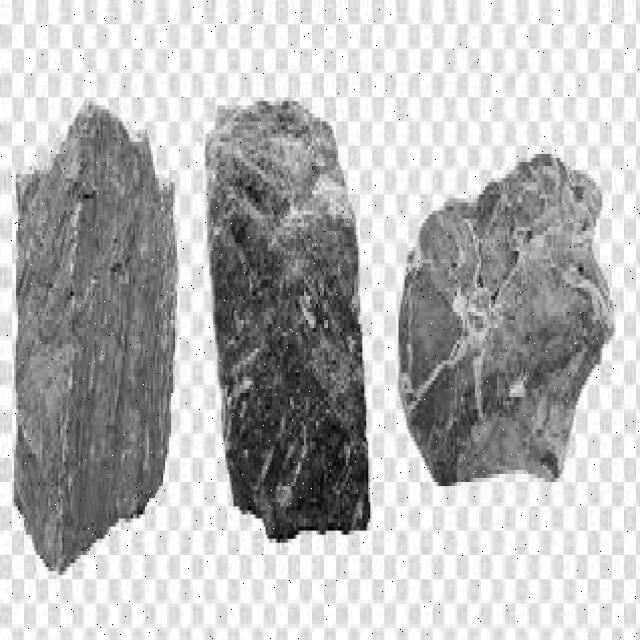Metamorphic: (390, 138, 616, 514), (2, 109, 189, 555), (202, 97, 376, 535)
